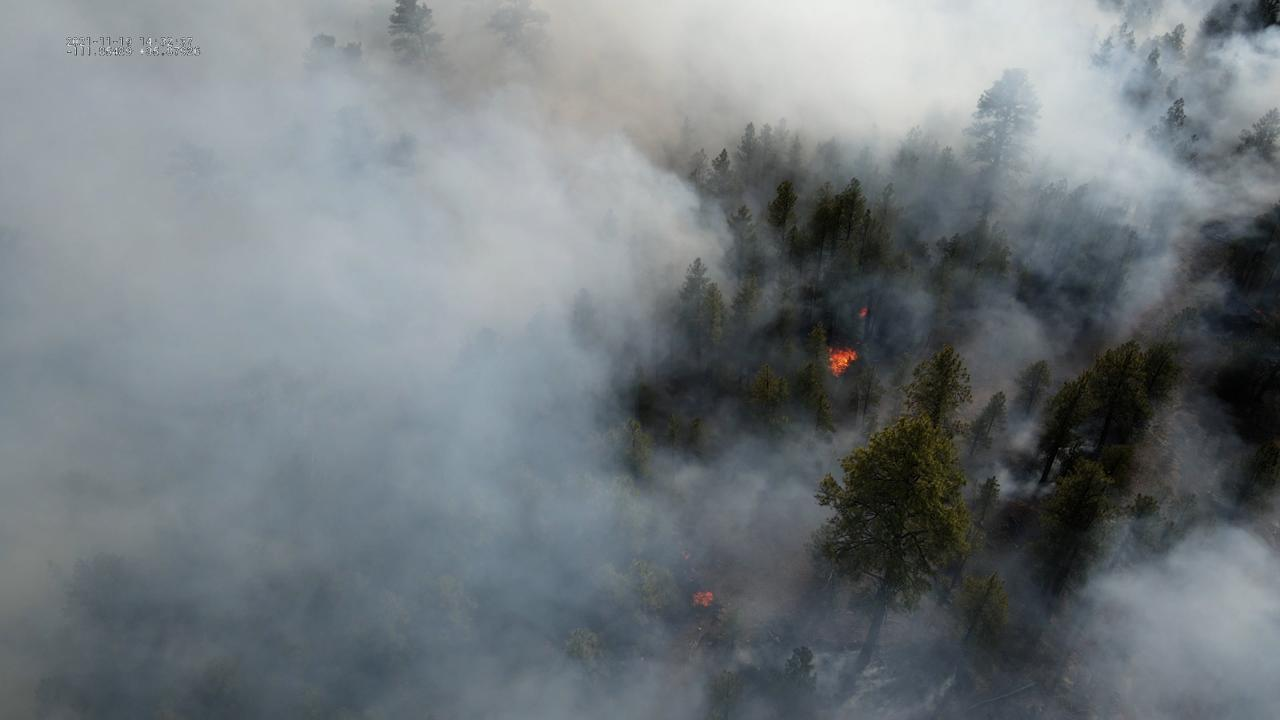fire: (822, 343, 860, 380), (690, 591, 715, 608), (857, 305, 869, 321)
smoke: (0, 0, 1280, 720)
